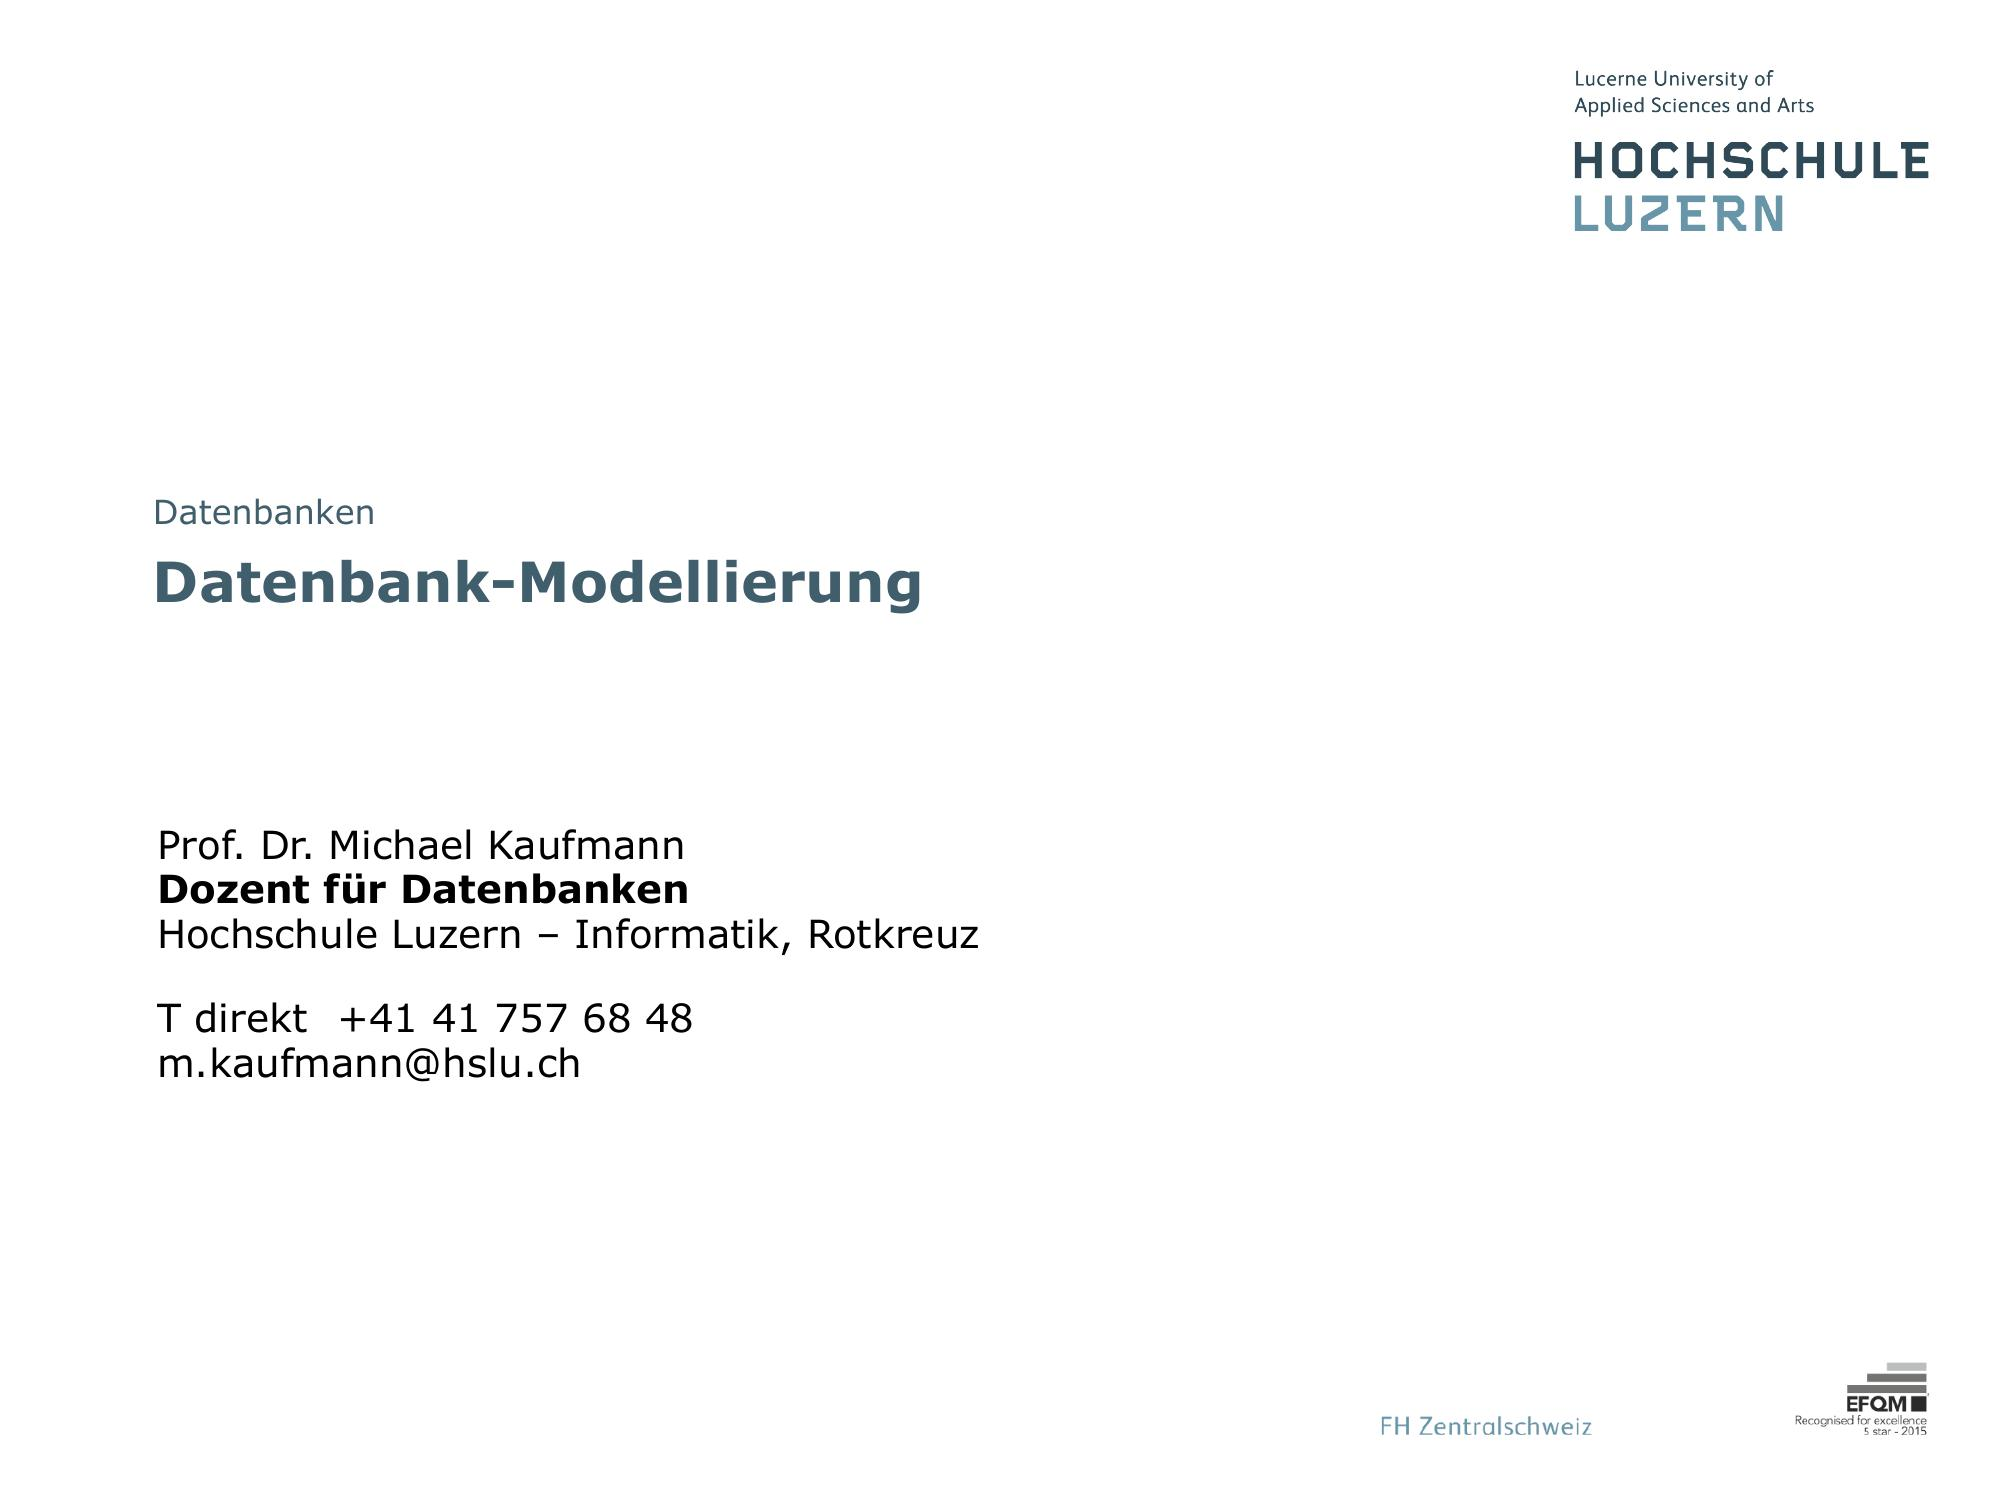Title: (146, 551, 950, 624)
